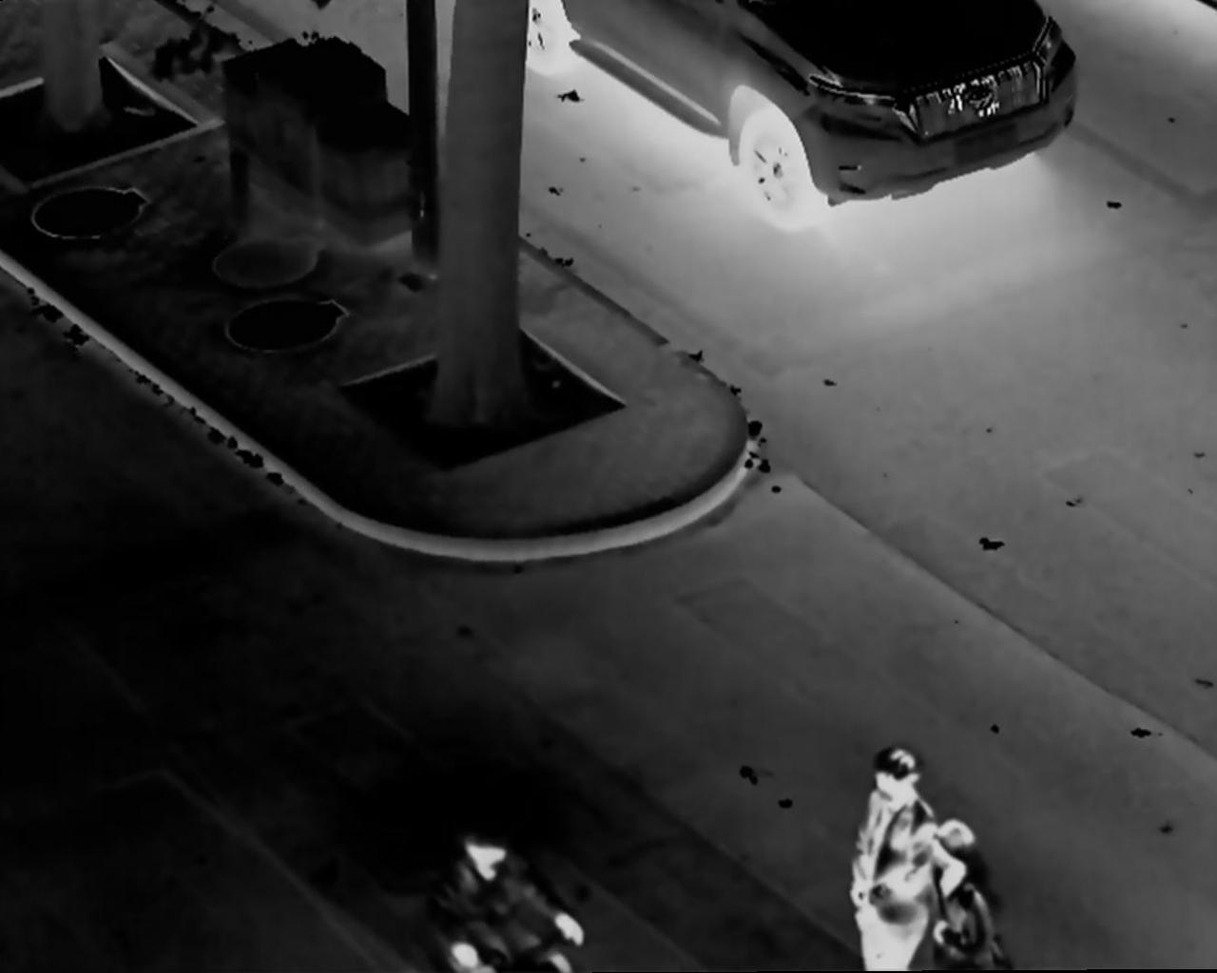person: (421, 820, 601, 973), (841, 746, 936, 971), (926, 818, 1022, 971)
